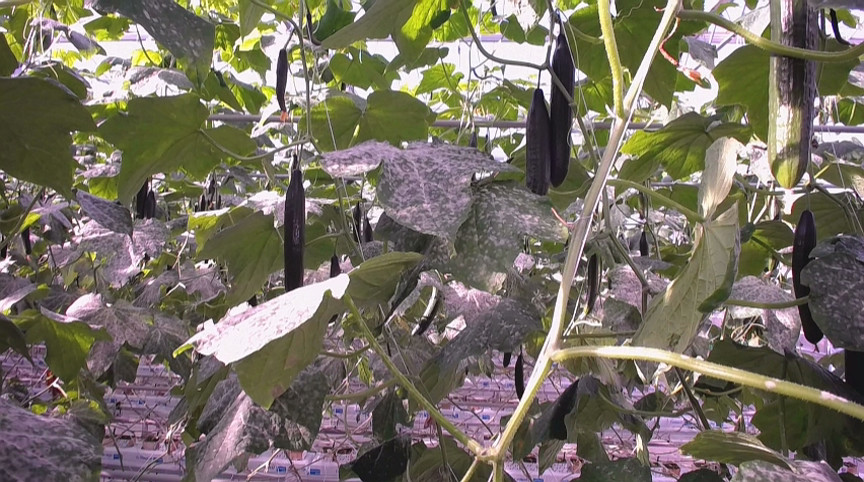cucumber: (768, 1, 821, 189), (791, 212, 824, 344), (548, 35, 573, 186), (283, 170, 307, 293), (524, 88, 551, 195)
